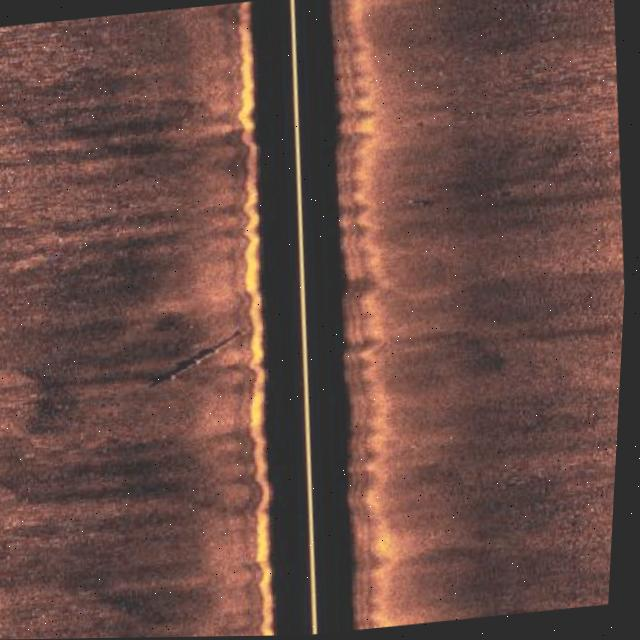other: (141, 331, 250, 398)
